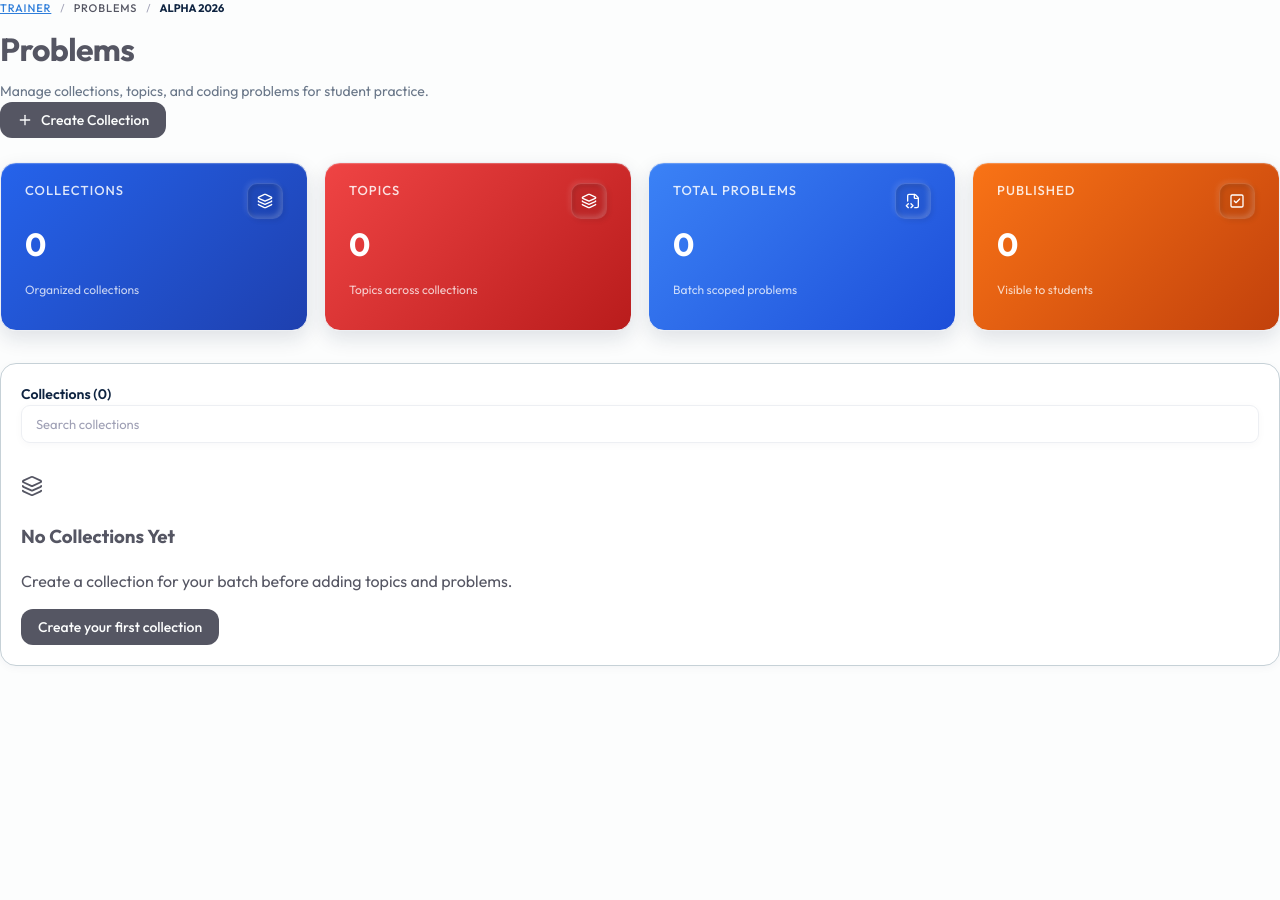
it: the empty-state Create Collection action opens the same modal
The width and height of the screenshot is (1280, 900).
Expected: the heading "No Collections Yet" is shown, [21, 524, 175, 548]
Click the button "Create your first collection" at {"x": 120, "y": 627}, box [21, 609, 219, 645]
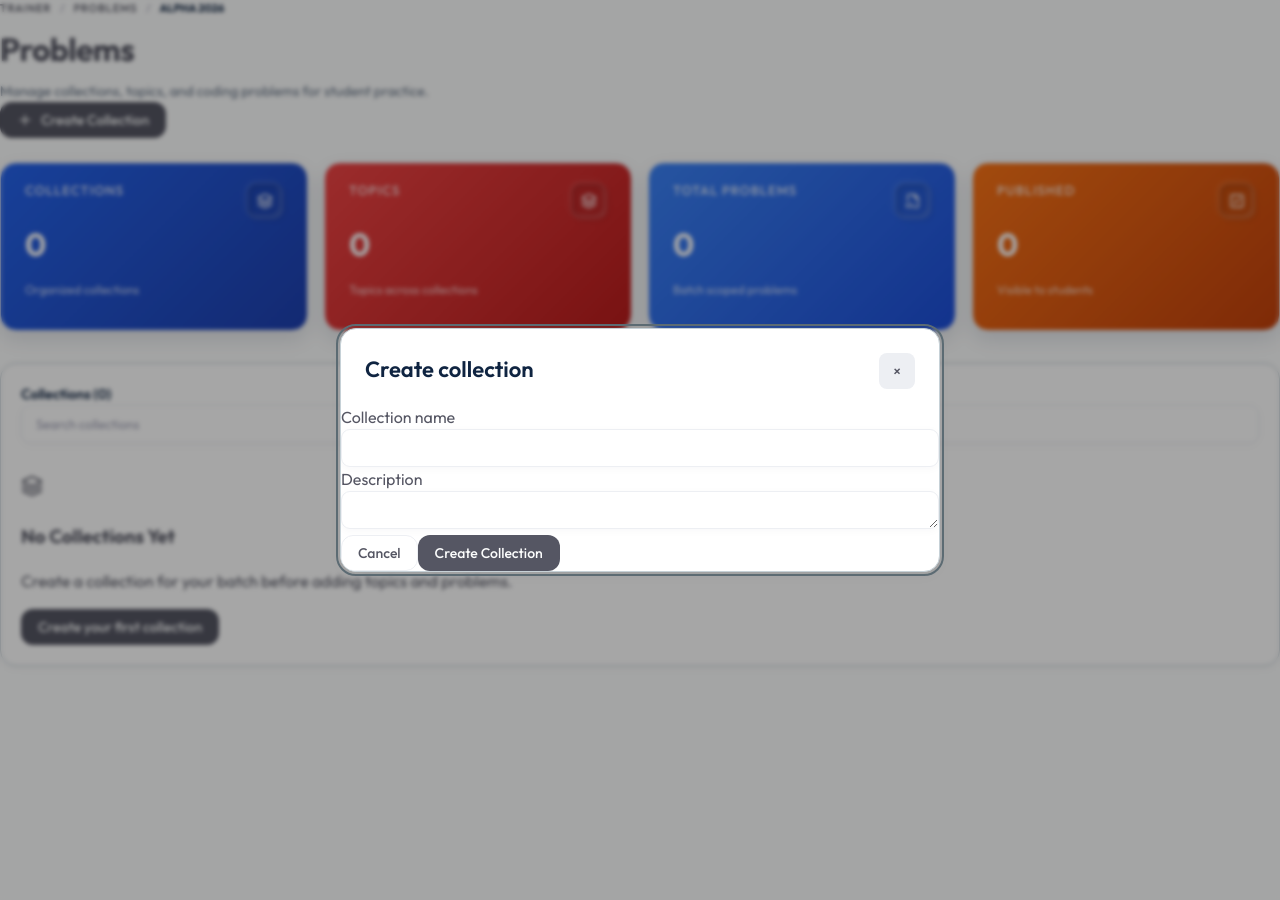
Now the dialog "Create collection" is shown, box [340, 328, 940, 572]
